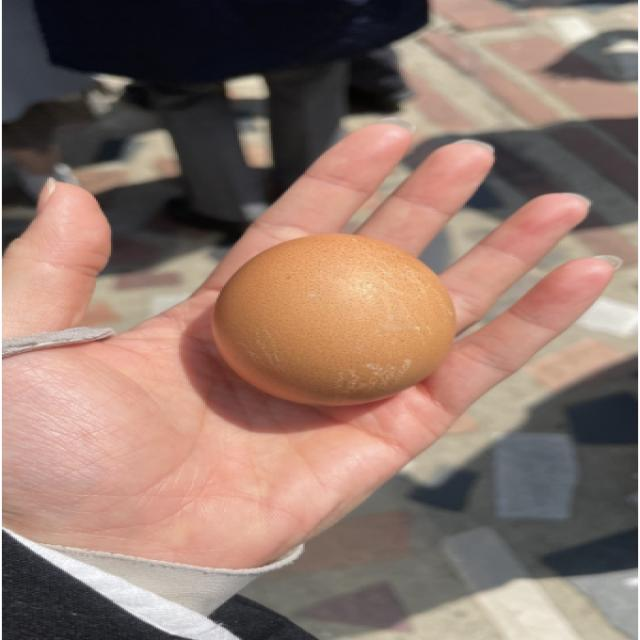eggs: (210, 227, 462, 404)
